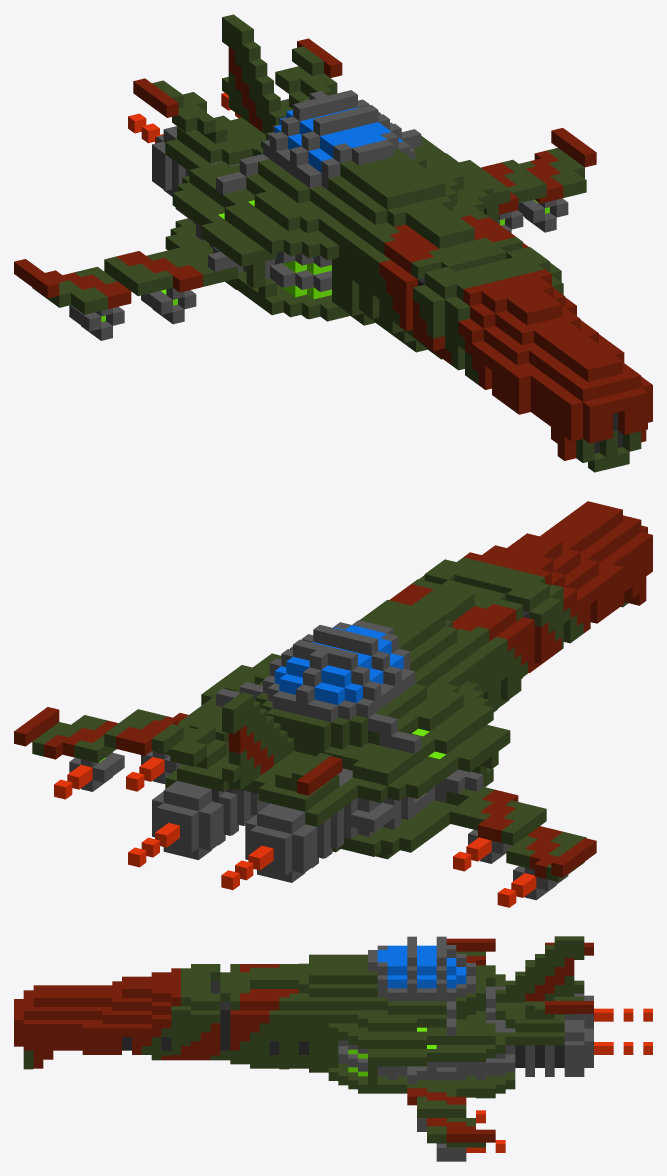
The model's file is GalactixRacer.fbx.
3 views of the same model, one above another, from view 1: azimuth 30°, elevation 25°; view 2: azimuth 150°, elevation 25°; view 3: azimuth 270°, elevation 25° (orthographic). The views are drawn at different scales.
Size of the model in its own units: 4.7 by 1.6 by 6.5.
Materials: 1 (1 with a texture image).
